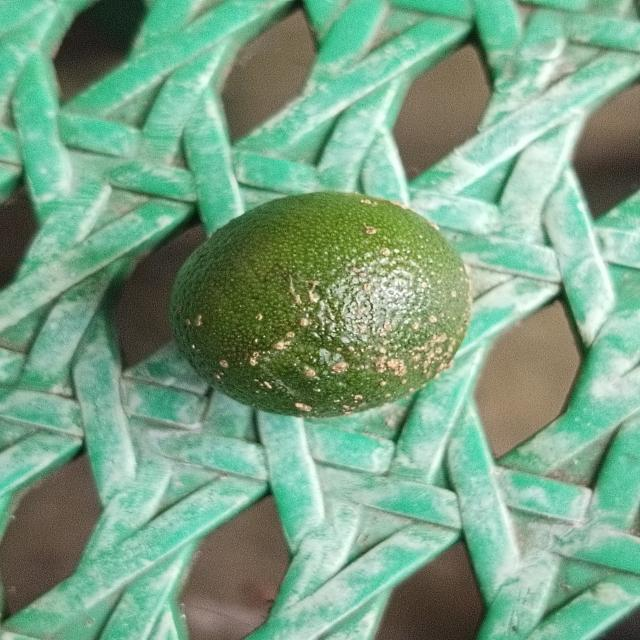scab: (170, 189, 472, 415)
